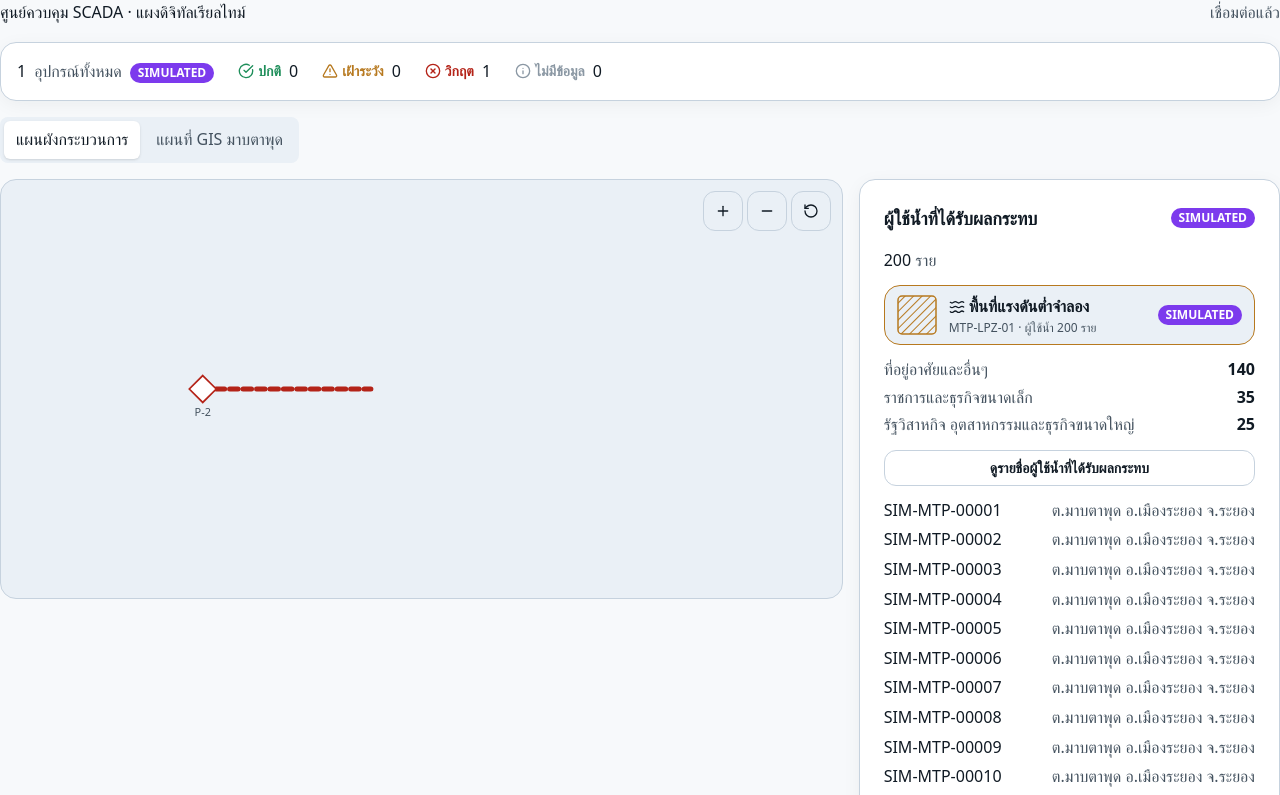
Scenario: PR-J — clickable low-pressure impact (R14/R19/R20) › T7i (R21): a customer-detail FAILURE shows an error+retry, not a permanent spinner
Expected: the icon with test id "twin-schematic" is shown, top-left (0, 179), bottom-right (843, 599)
Click the button with test id "low-pressure-area" at (1069, 315), box top-left (884, 285), bottom-right (1255, 345)
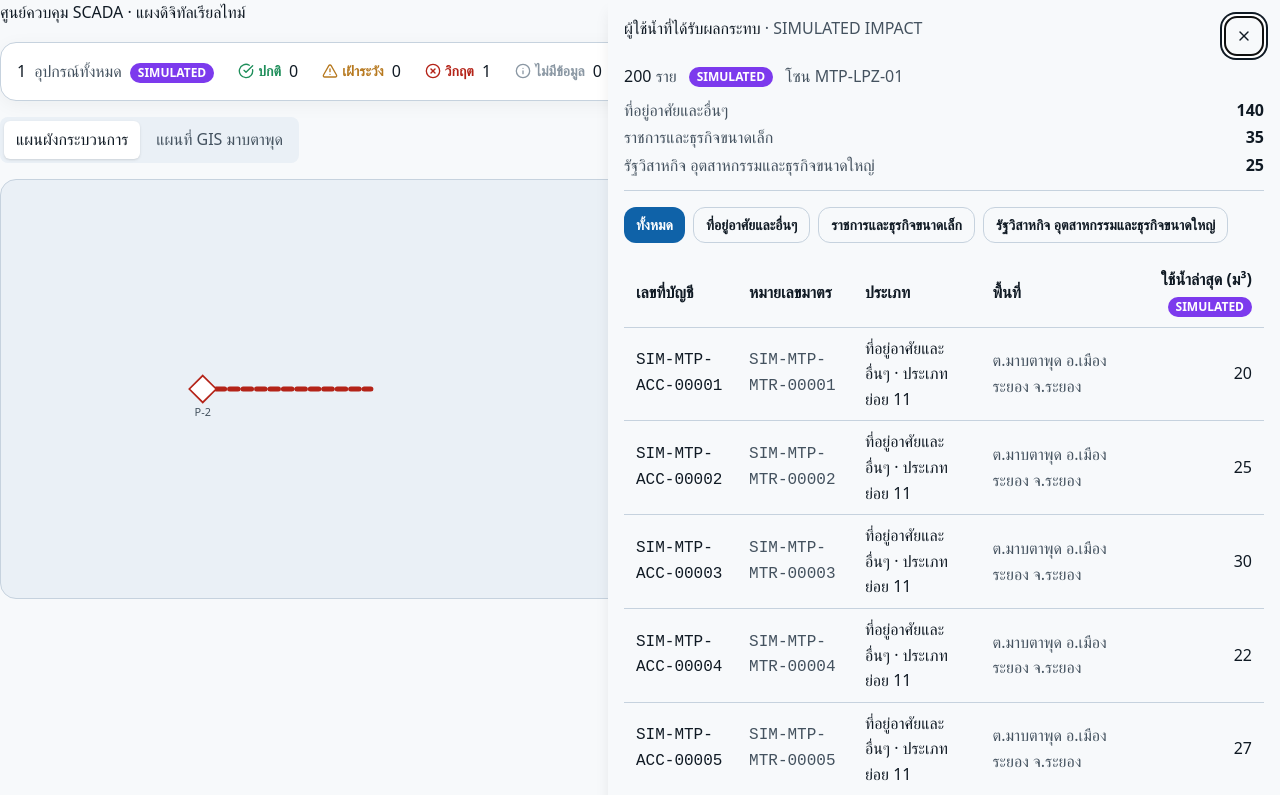
Click the button with test id "customer-select" showing "SIM-MTP-ACC-00001" at (681, 374), box top-left (636, 348), bottom-right (725, 400)
(page scrolled)
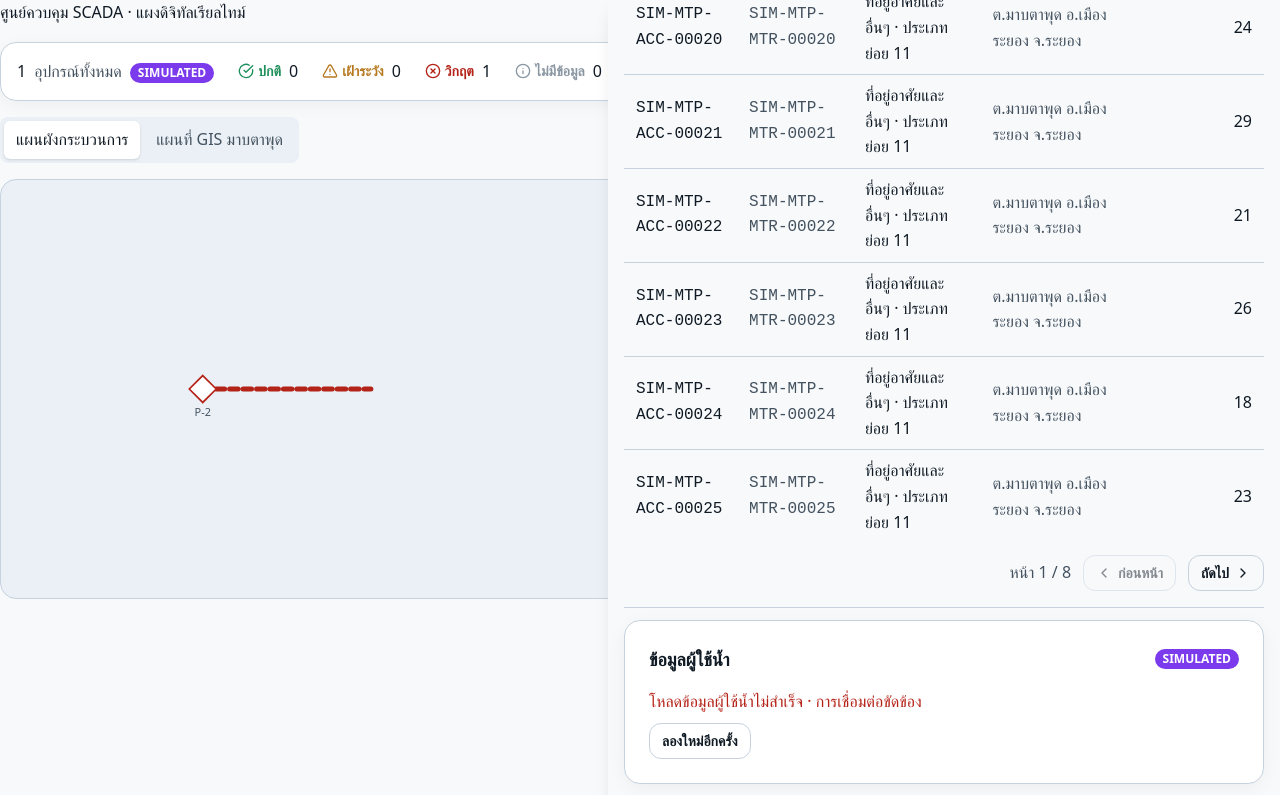
Expected: the element with test id "customer-detail-error" is shown, top-left (649, 690), bottom-right (922, 759)
